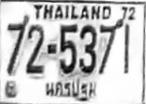1: (125, 24, 129, 74)
2: (26, 24, 44, 73)
3: (78, 24, 96, 73)
5: (59, 24, 76, 73)
7: (6, 23, 25, 76), (99, 25, 118, 73)
NPT: (43, 77, 99, 104)
